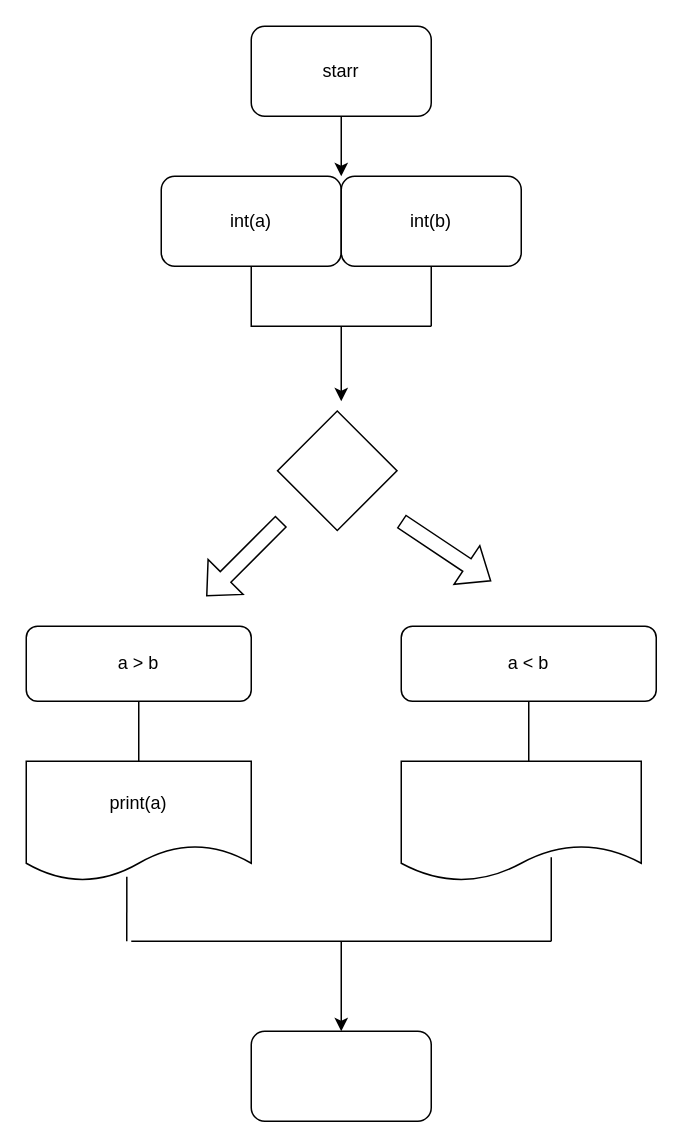
Some shapes in this 683 by 1148 pixel diagram are drawn without their labels. Here are the shapes that lost their labels. From the top down, the centre of each, then its label:
pixel 336 470: if
pixel 520 820: print
pixel 340 1075: end
